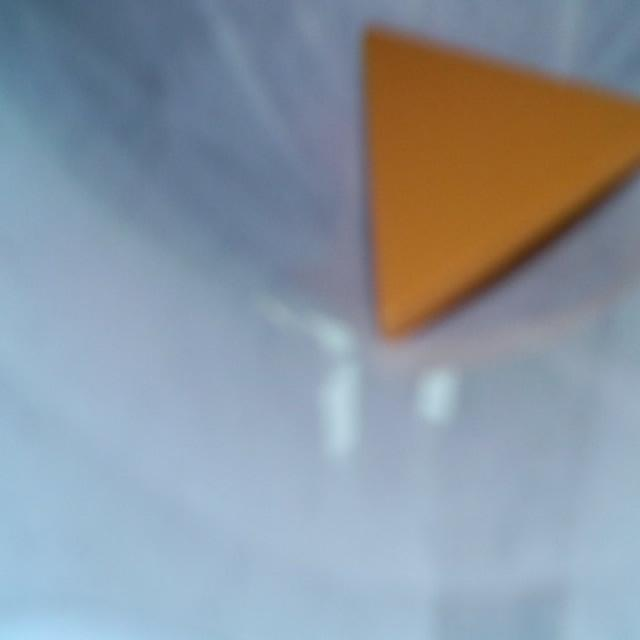triangle: (364, 31, 639, 335)
